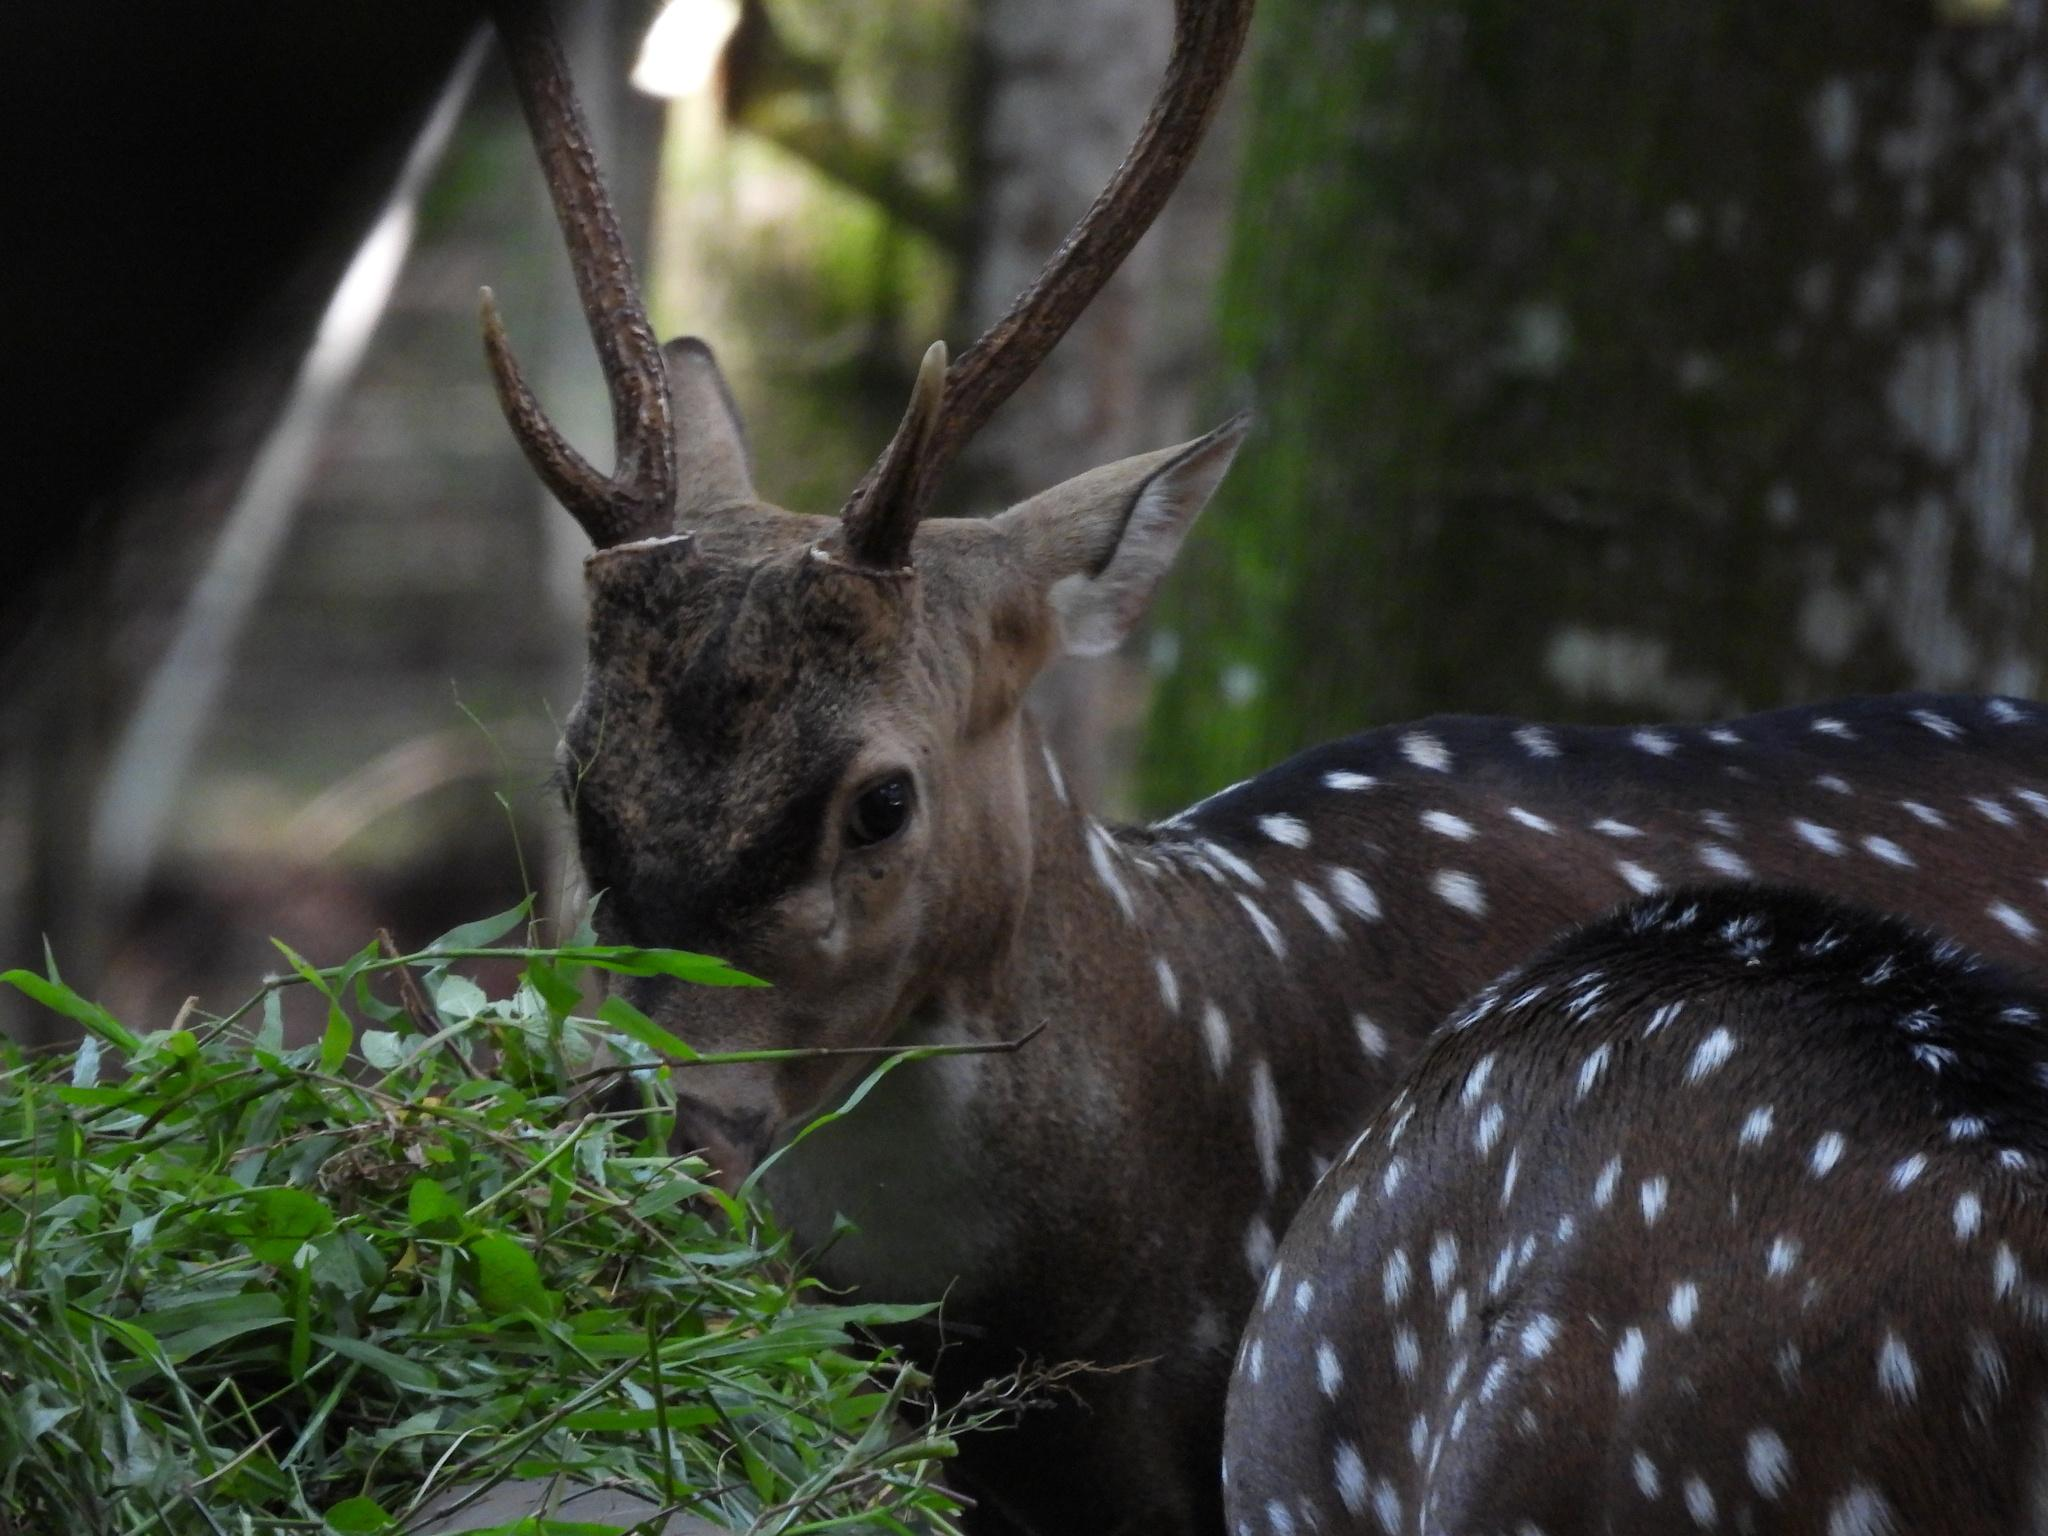Deer: (563, 339, 2046, 1534), (1226, 886, 2046, 1534)
